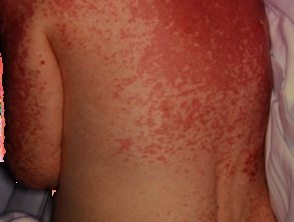SJS-TEN: (0, 1, 273, 194)
